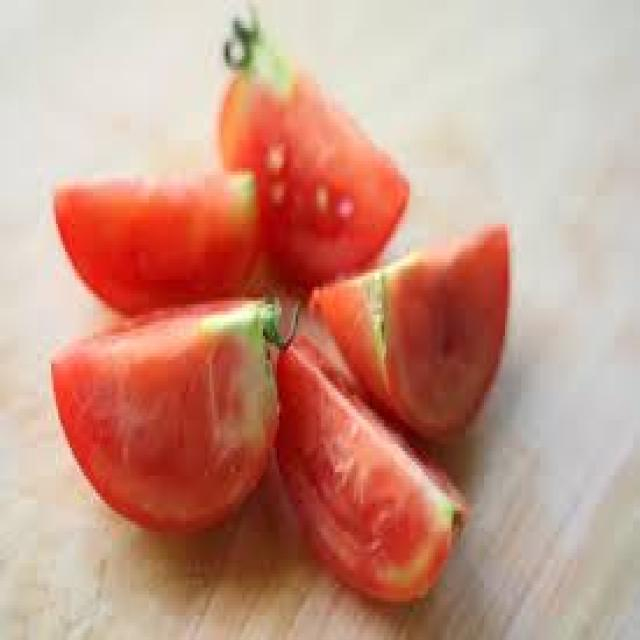Tomato: (42, 294, 286, 540), (277, 327, 472, 611), (216, 12, 413, 286), (309, 211, 516, 434), (49, 163, 272, 342)
